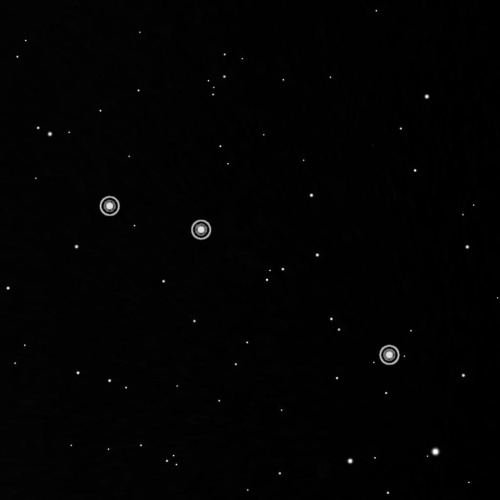vulpecula: (95, 187, 405, 369)
